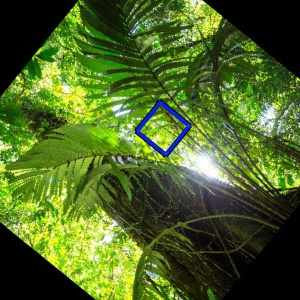square: (133, 98, 194, 160)
